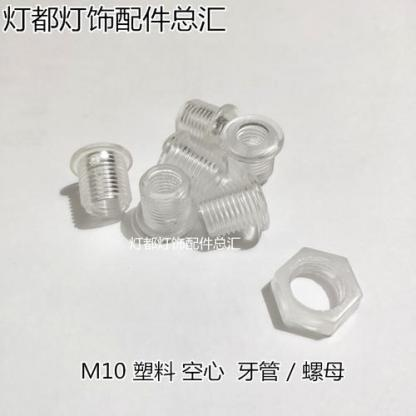FOD: (267, 246, 367, 336)
